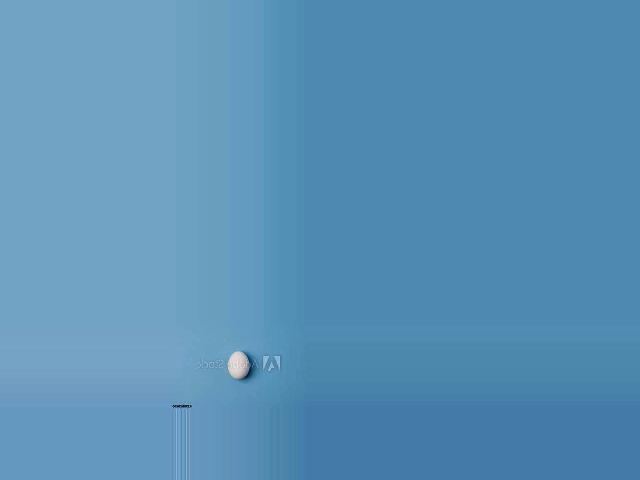egg: (227, 352, 249, 379)
